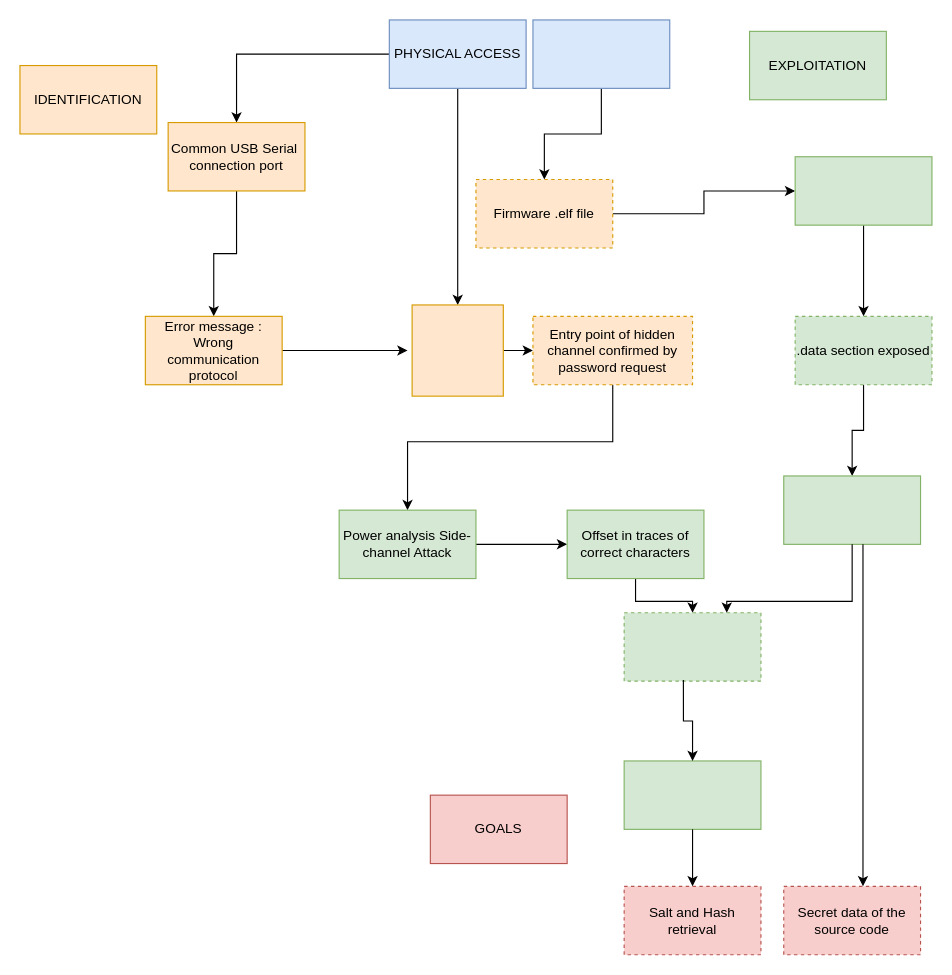
Some shapes in this 952 by 975 pixel diagram are drawn without their labels. Here are the shapes that lost their labels. From the top down, the centre of each, then its label:
point 601,53: LOCAL ACCESS
point 863,190: Exploring sections with avr-objdump
point 457,350: Testing GPIOs to discover hidden UART and trigger
point 852,509: Identifying Possible passwords and confidential data
point 692,646: Plaintext Password
point 692,794: Inputting password via USB-UART Connection
